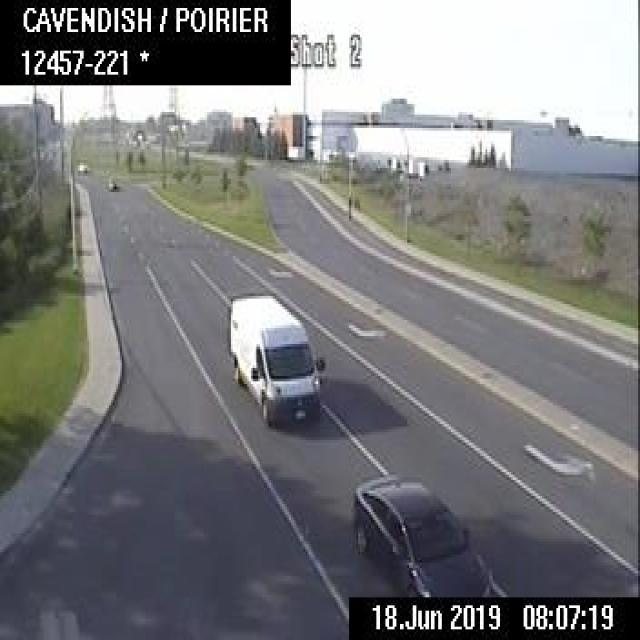vehicle: (347, 469, 493, 595), (225, 290, 320, 426)
